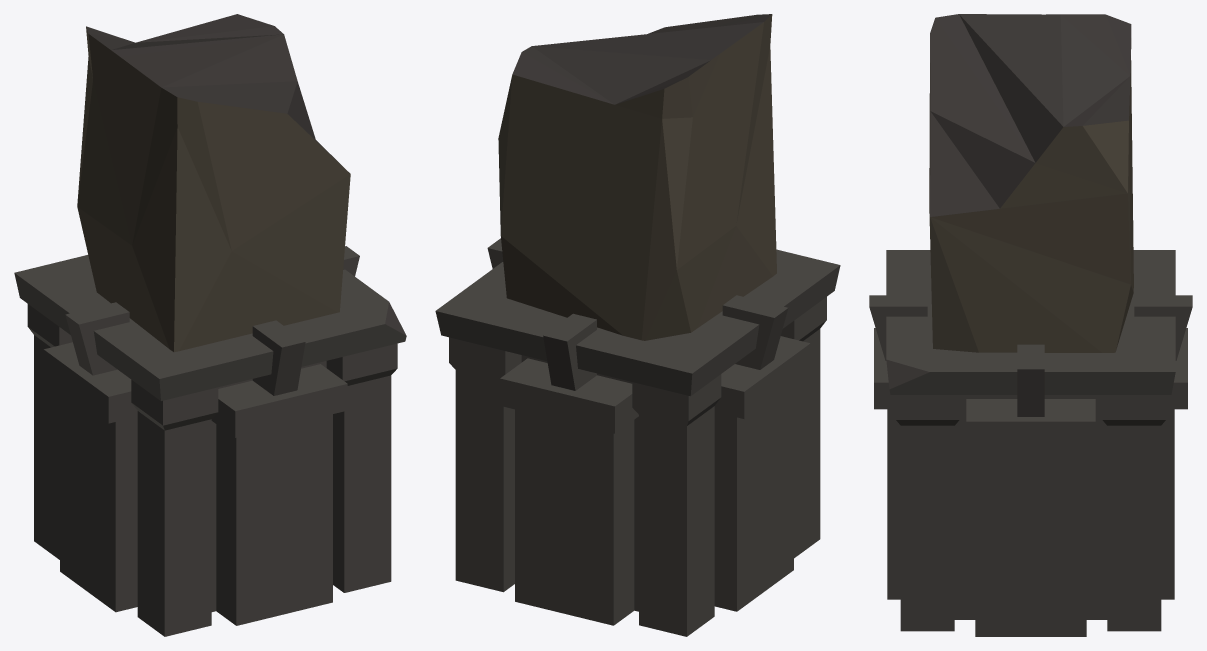
The model's file is Pillar_1D.fbx.
3 views of the same model, side by side, from view 1: azimuth 30°, elevation 25°; view 2: azimuth 150°, elevation 25°; view 3: azimuth 270°, elevation 25° (orthographic). The views are drawn at different scales.
Visible parts, largest first — view 1: polySurface1277; view 2: polySurface1277; view 3: polySurface1277.
Part boxes in pixels (x1,y1,x2,y2): polySurface1277: (14,14,406,636); polySurface1277: (435,14,840,636); polySurface1277: (869,14,1192,636).
Bounding box in the file's own units: 2.04 × 3.61 × 2.04.
